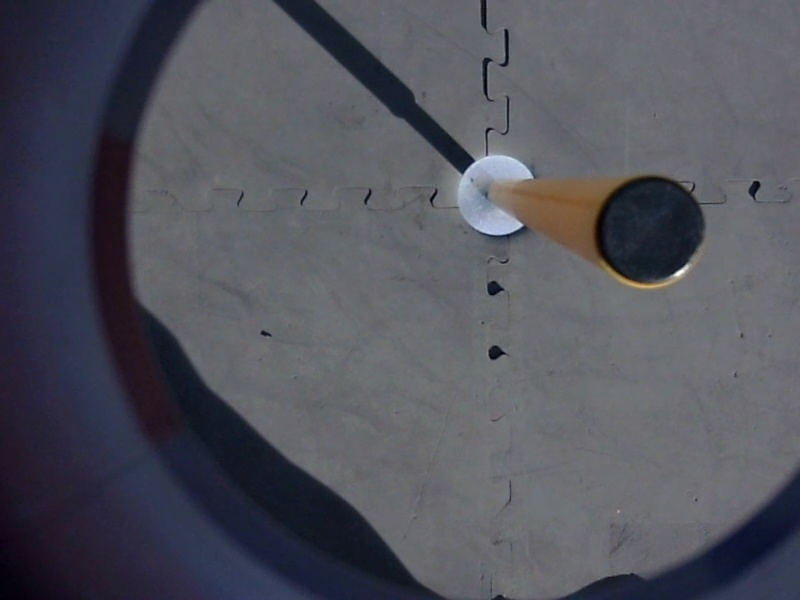tip: (582, 172, 712, 300)
